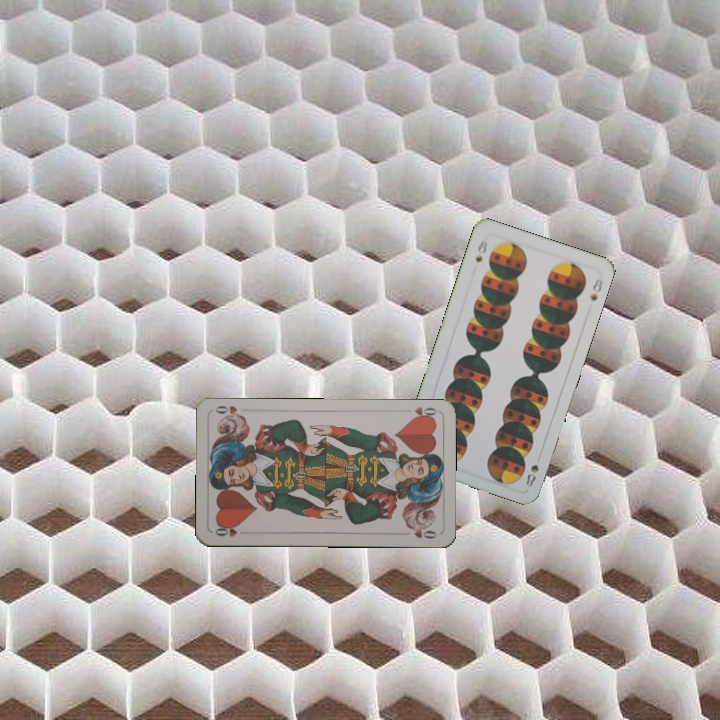HO: (399, 402, 439, 422), (211, 522, 251, 539)
S8: (471, 236, 490, 265), (522, 460, 541, 489)
